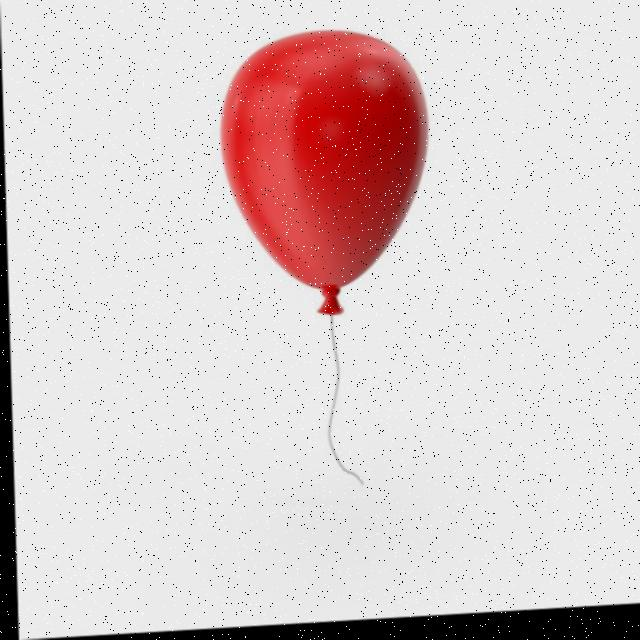balloon: (202, 13, 443, 335)
